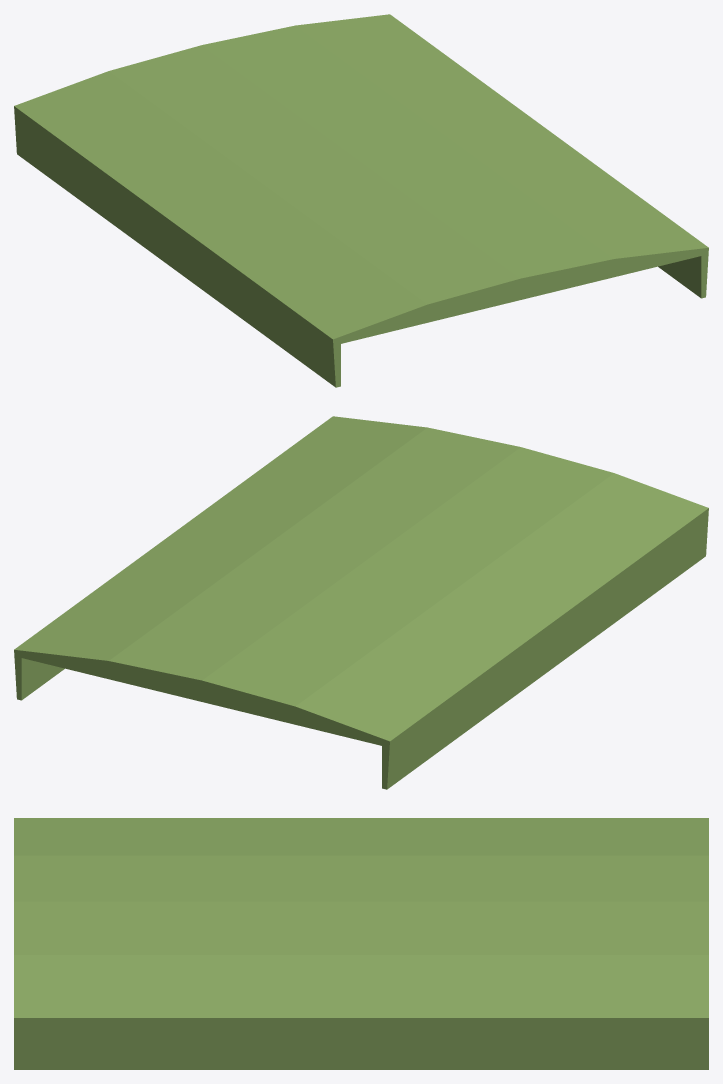
The model's file is Itr_Bed_Single_Blanket_11.FBX.
The picture shows the model from 3 angles, top to bottom: view 1: azimuth 30°, elevation 25°; view 2: azimuth 150°, elevation 25°; view 3: azimuth 270°, elevation 25°; orthographic projection. The views are drawn at different scales.
Visible parts, largest first — view 1: Itr_Bed_Single_Blanket_11; view 2: Itr_Bed_Single_Blanket_11; view 3: Itr_Bed_Single_Blanket_11.
Part boxes in pixels (box(x1,y1,x2,y2)): Itr_Bed_Single_Blanket_11: box(14, 14, 708, 387); Itr_Bed_Single_Blanket_11: box(14, 416, 708, 789); Itr_Bed_Single_Blanket_11: box(14, 818, 708, 1069).
Bounding box in the file's own units: 44.15 × 7.19 × 64.86.
